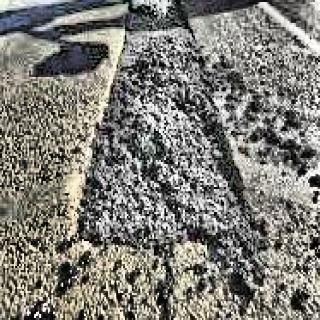pothole: (74, 4, 270, 285)
